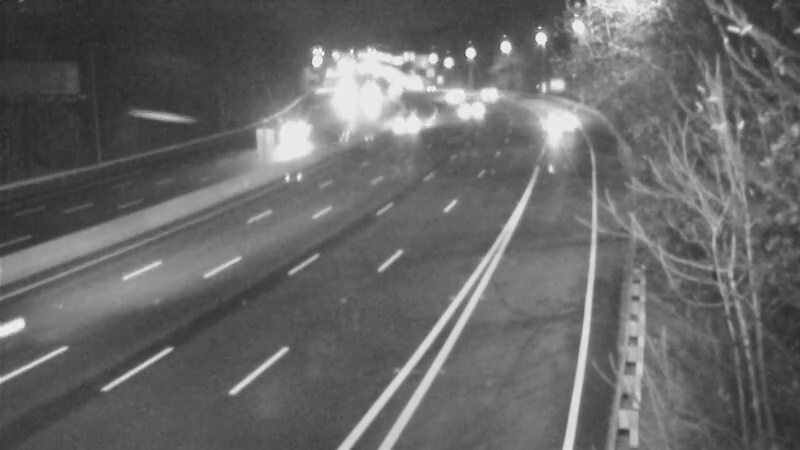vehicle: (427, 73, 477, 123), (462, 65, 512, 115), (443, 85, 493, 135), (530, 89, 580, 139), (385, 94, 435, 144), (271, 105, 321, 155), (343, 79, 393, 129)
